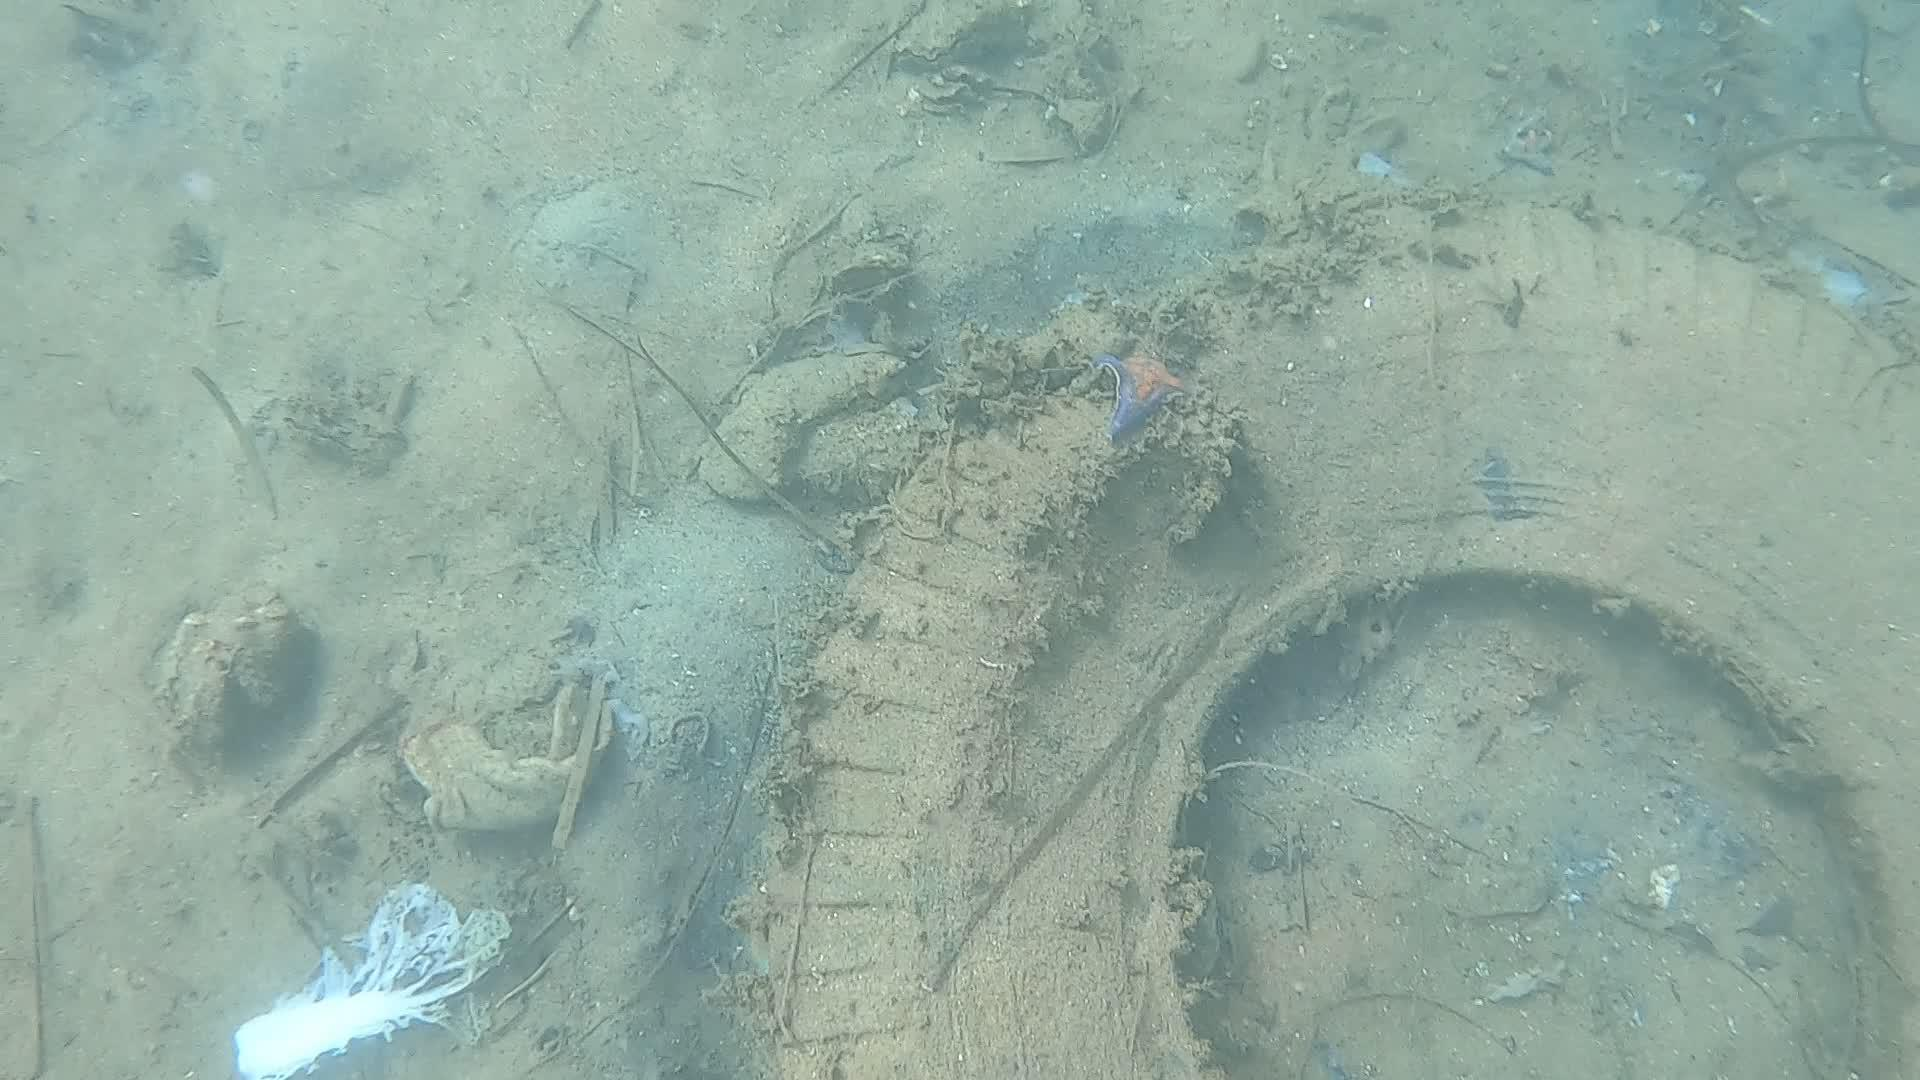tire: (740, 193, 1920, 1080)
